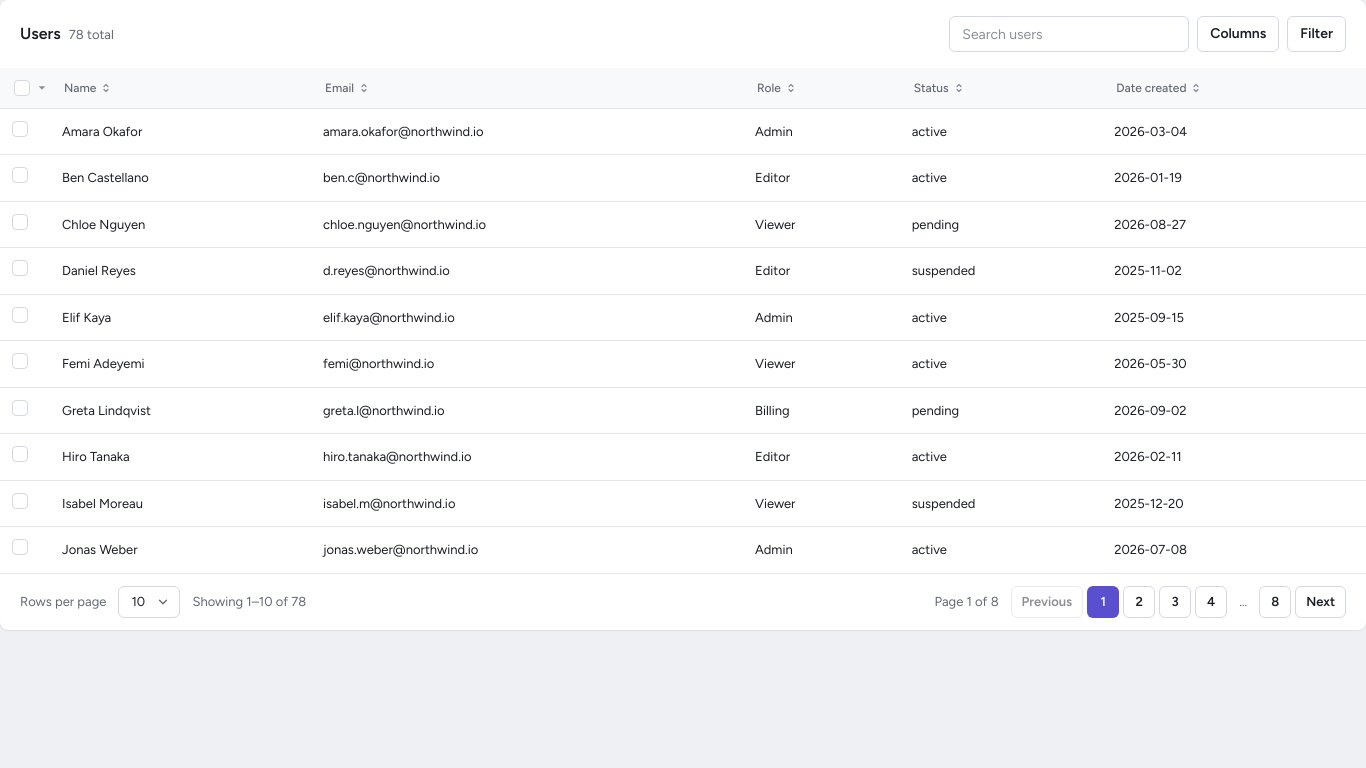
Scenario: DataTable · selection and bulk bar › offers select page / select all / clear from the header caret
Click the button named "Selection options" at (42, 88), box [34,80,50,96]
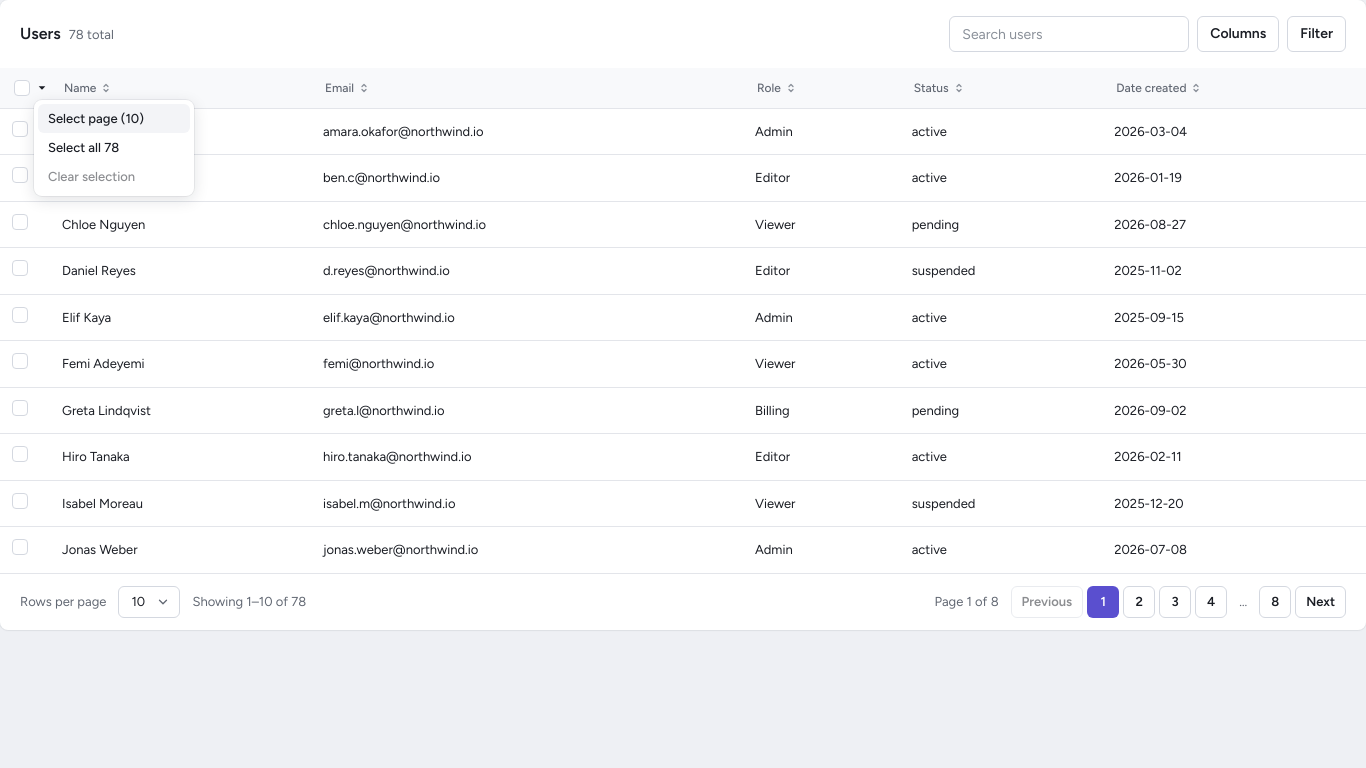
Result: the menu item "Select page (10)" is shown at [38,104,190,133]
Click the menu item "Select all 78" at (114, 148), box [38,133,190,162]
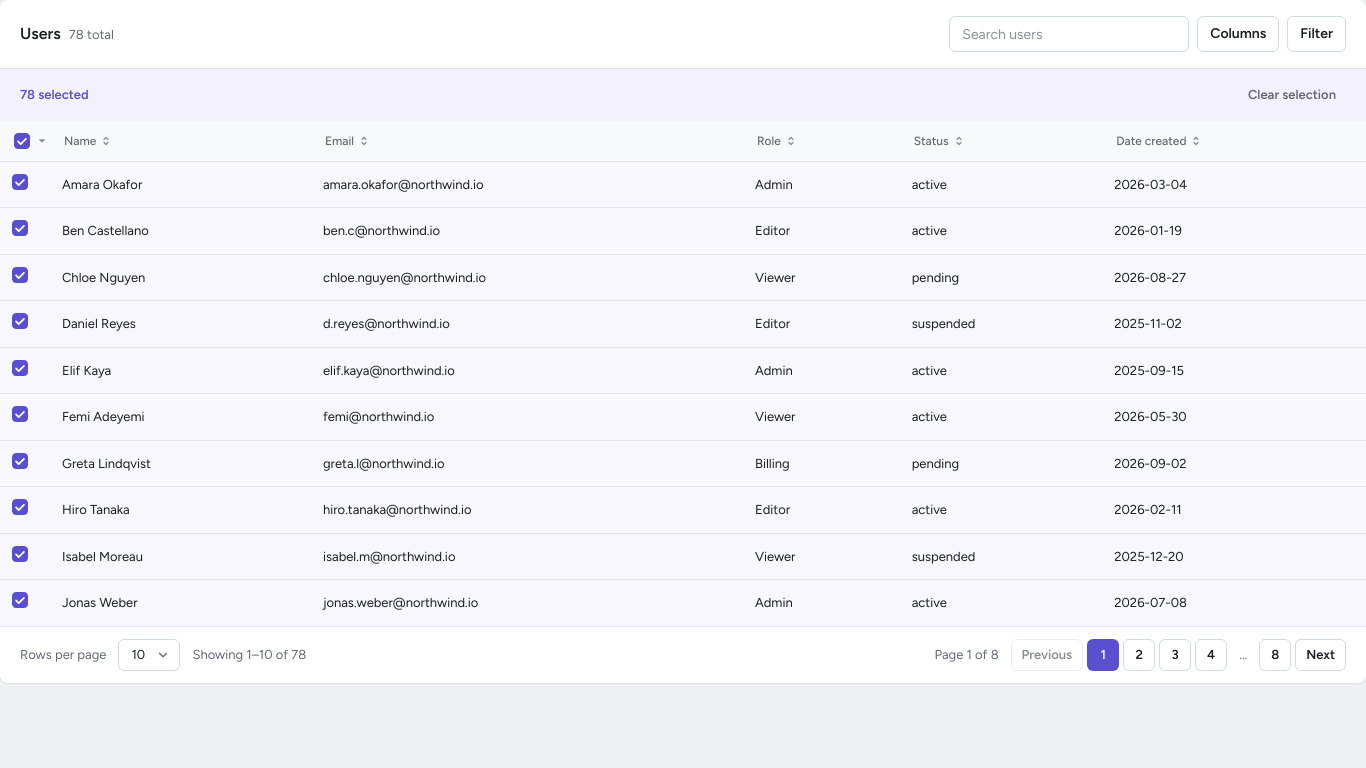
Result: the element named "Bulk actions" shows "78 selected" at [0,68,1365,121]
